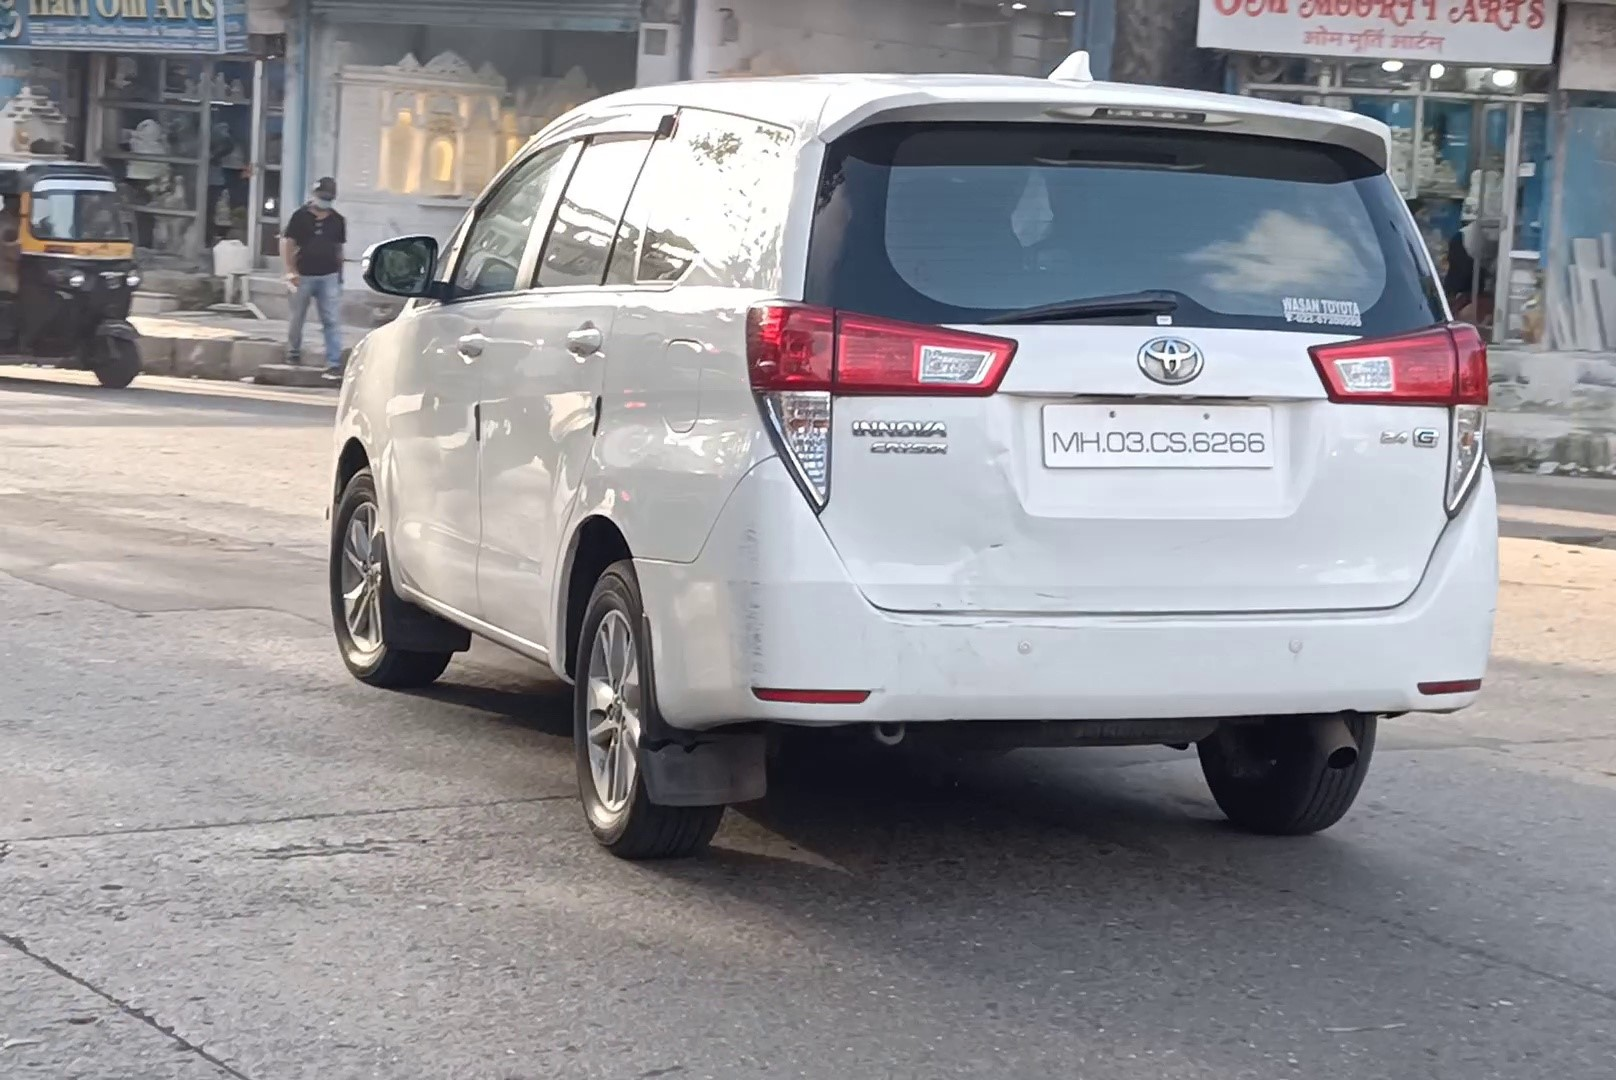MH03CS6266: (1041, 402, 1279, 472)
